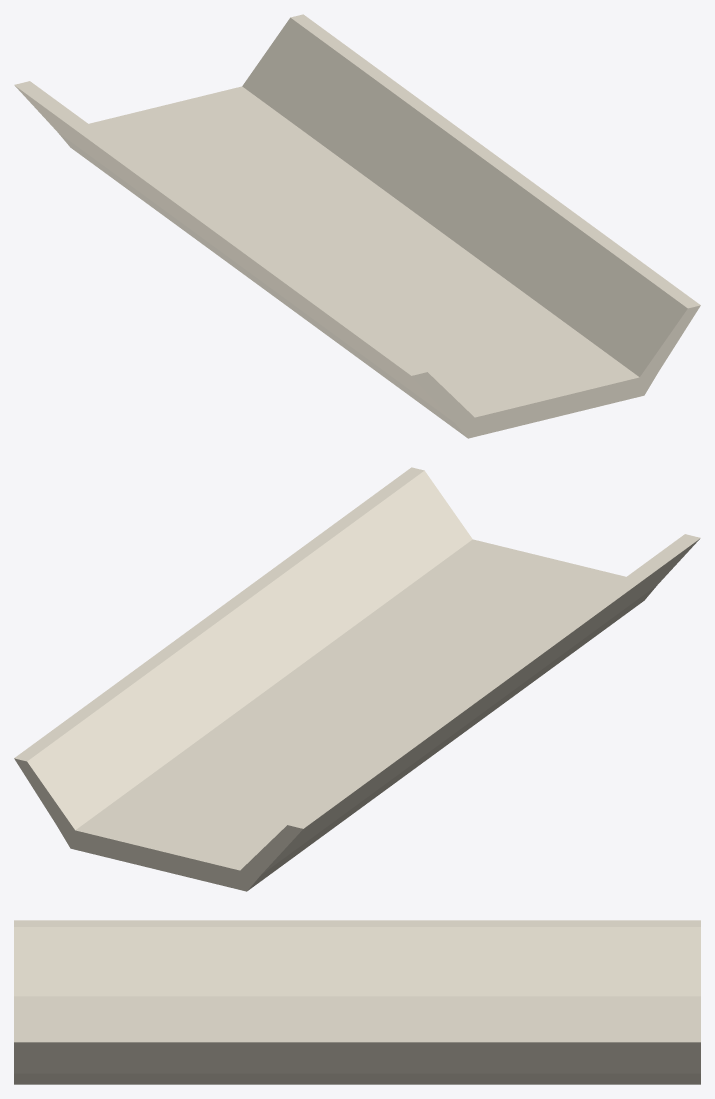
File: G_Bridge.fbx
3 renders of one model, top to bottom at view 1: azimuth 30°, elevation 25°; view 2: azimuth 150°, elevation 25°; view 3: azimuth 270°, elevation 25°, orthographic. The views are drawn at different scales.
Visible parts, largest first — view 1: G_Bridge; view 2: G_Bridge; view 3: G_Bridge.
Boxes of the visible parts, x1,y1,x2,y2 form: G_Bridge: [14, 14, 700, 438]; G_Bridge: [14, 467, 700, 891]; G_Bridge: [14, 920, 700, 1084].
Size of the model in its own units: 927 by 234 by 2205.
